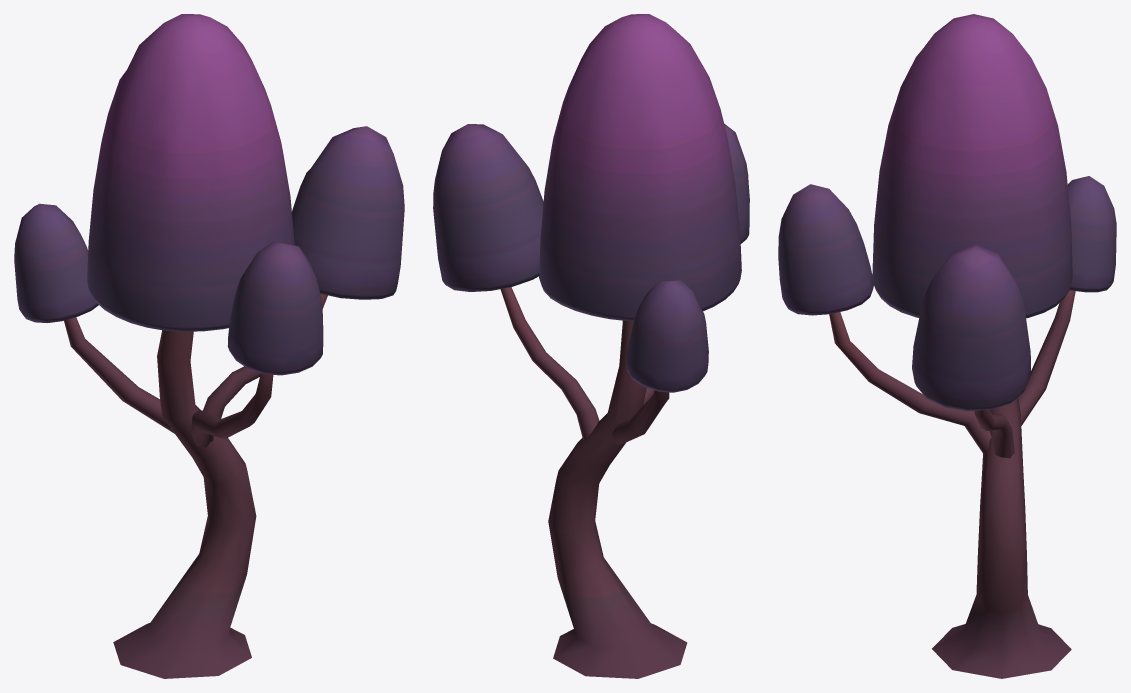
File: Tree_26.fbx
3 views of the same model, side by side, from view 1: azimuth 30°, elevation 25°; view 2: azimuth 150°, elevation 25°; view 3: azimuth 270°, elevation 25° (orthographic). The views are drawn at different scales.
Parts seen in each view (by area): view 1: Tree_26; view 2: Tree_26; view 3: Tree_26.
Boxes of the visible parts, x1,y1,x2,y2 form: Tree_26: (14, 14, 404, 678); Tree_26: (433, 14, 749, 678); Tree_26: (778, 14, 1116, 678).
Size of the model in its own units: 285 by 542 by 265.
